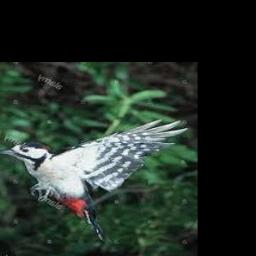Woodpecker: (0, 118, 187, 240)
